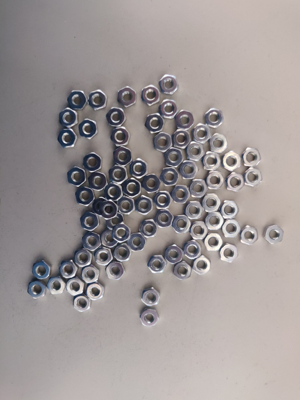nut: (158, 73, 180, 96), (106, 106, 127, 128), (66, 90, 87, 111), (158, 99, 179, 120), (112, 146, 133, 167), (108, 164, 129, 185), (205, 170, 226, 191), (117, 86, 137, 108), (59, 107, 79, 129), (172, 128, 192, 150), (175, 109, 195, 131), (192, 123, 212, 145), (141, 85, 161, 106), (79, 119, 99, 140), (57, 129, 78, 149), (153, 132, 173, 153), (165, 147, 185, 168), (83, 152, 103, 173), (80, 211, 100, 232), (112, 223, 132, 244), (179, 160, 199, 181), (171, 184, 191, 205), (204, 108, 224, 129), (186, 141, 206, 162), (222, 151, 242, 172), (243, 167, 264, 187), (220, 199, 240, 220), (264, 225, 285, 245), (87, 171, 109, 190), (111, 127, 131, 147), (67, 167, 87, 187), (75, 187, 95, 207), (122, 178, 142, 198), (172, 215, 192, 235), (82, 231, 102, 251), (80, 264, 100, 284), (202, 151, 222, 171), (242, 148, 262, 168), (89, 90, 108, 111), (135, 195, 154, 216), (159, 168, 180, 187), (100, 228, 119, 249), (93, 247, 114, 266), (164, 244, 183, 265), (209, 133, 228, 154), (226, 172, 245, 193), (145, 114, 165, 133), (130, 158, 149, 178), (92, 197, 111, 217), (103, 183, 123, 202), (142, 174, 161, 194), (155, 209, 174, 229), (140, 219, 159, 239), (127, 233, 147, 252), (148, 254, 167, 274), (183, 240, 202, 260), (173, 261, 193, 280), (142, 287, 161, 307), (140, 308, 160, 327), (201, 194, 221, 213), (189, 221, 208, 241), (220, 244, 239, 264), (193, 255, 212, 275), (204, 212, 225, 230), (100, 200, 119, 219), (154, 191, 173, 210), (113, 243, 132, 262), (106, 261, 125, 280), (73, 248, 92, 267), (59, 260, 78, 279), (86, 281, 105, 300), (66, 277, 85, 296), (47, 276, 66, 295), (32, 261, 51, 280), (189, 179, 208, 198), (185, 201, 204, 220), (222, 219, 241, 238), (240, 226, 259, 245), (204, 233, 223, 252), (105, 212, 125, 230), (27, 281, 47, 299), (117, 196, 135, 215), (73, 294, 91, 312)
